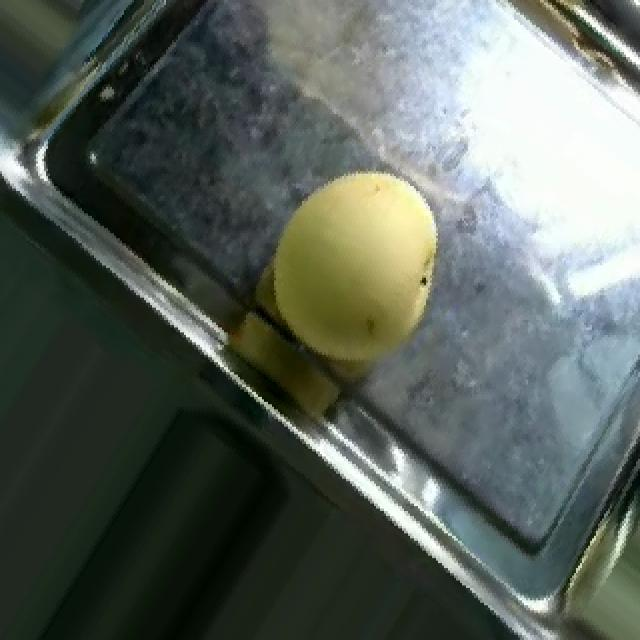Fruit: (222, 139, 474, 404)
